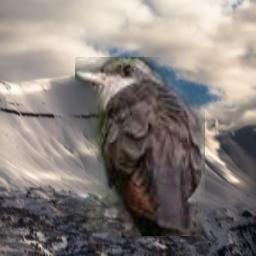Cuckoo: (75, 57, 205, 236)
